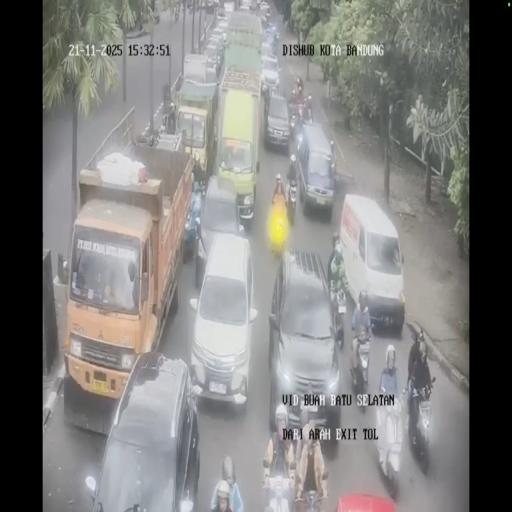3: (62, 130, 192, 418), (173, 58, 219, 180), (222, 7, 264, 84)
car: (268, 250, 340, 438), (339, 194, 405, 331), (196, 174, 246, 283), (295, 122, 337, 218), (264, 91, 290, 153), (336, 493, 396, 512), (260, 51, 280, 97), (203, 41, 224, 81), (262, 27, 278, 60), (215, 16, 230, 40), (222, 0, 235, 16), (260, 0, 270, 18), (239, 0, 251, 11), (205, 0, 215, 13)
truck: (375, 391, 404, 494), (405, 370, 434, 470), (262, 445, 296, 510), (350, 327, 372, 404), (330, 273, 348, 347), (285, 173, 298, 223), (289, 101, 301, 134), (328, 154, 338, 190), (303, 102, 313, 124), (174, 5, 180, 21), (188, 2, 194, 14)
